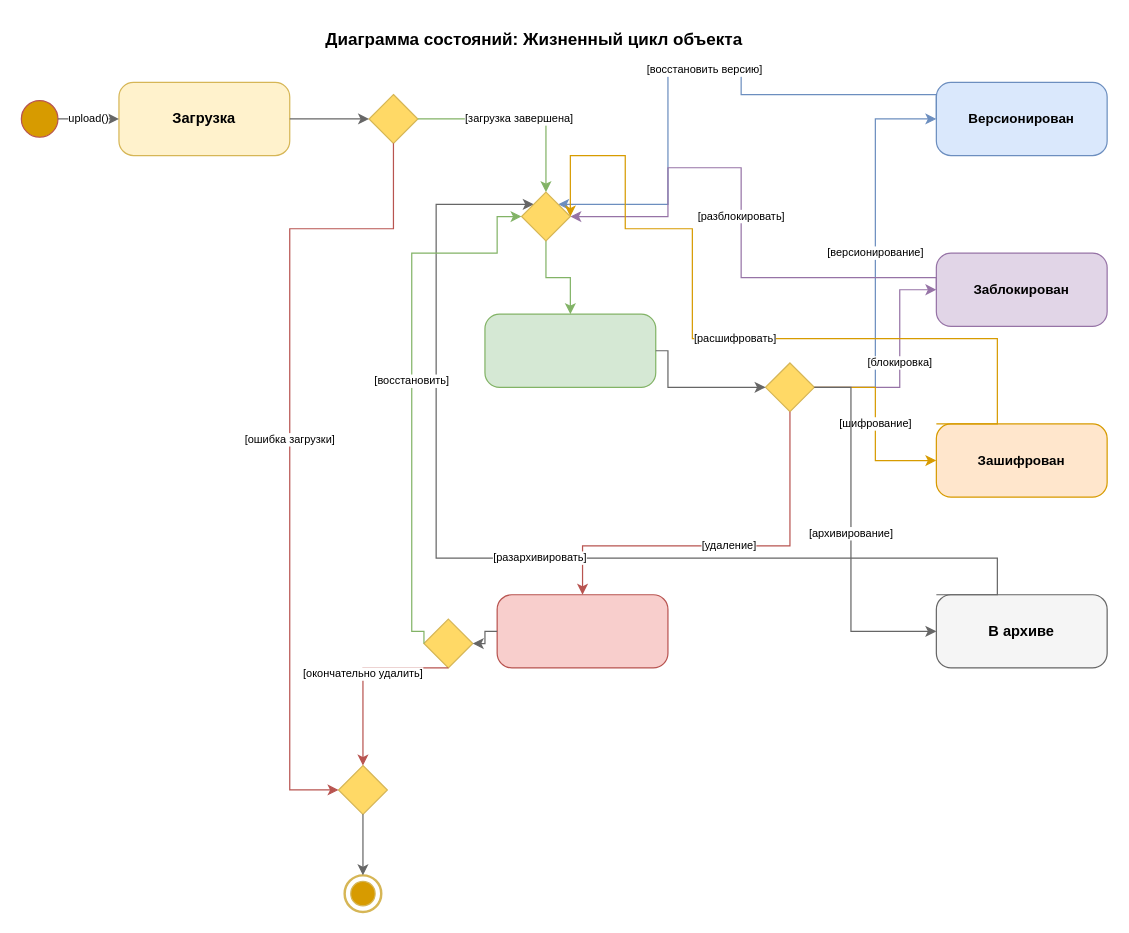
This 1129x933 diagram has some shape labels left out. The centre of each missing label's shape, as x and y in pixels:
"Активный" belongs at (570,350).
"Помечен на удаление" belongs at (582,631).
